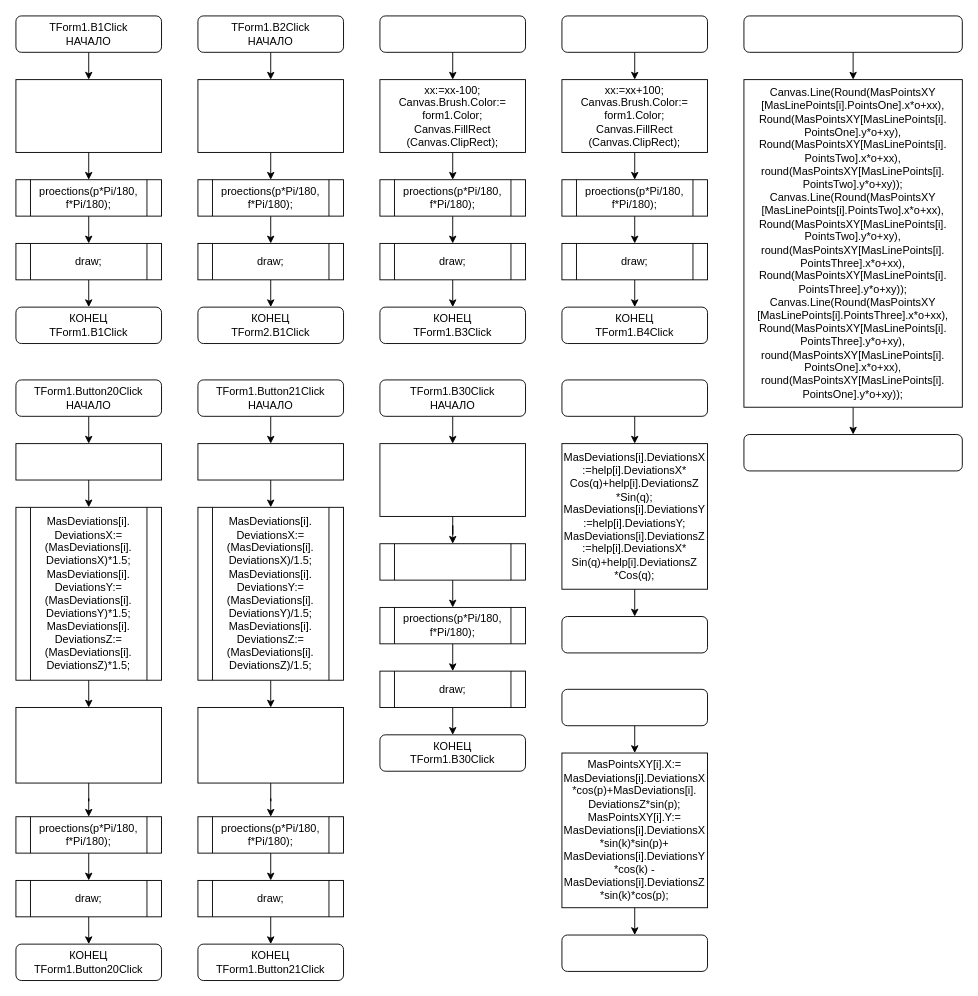
The diagram is 978 pixels wide and 996 high, and some of its shapes have lost their labels. The centre of each missing label's shape, as x and y in pixels:
o:=o+0.5; Canvas.Brush.Color:= form1.Color; Canvas.FillRect(Canvas. ClipRect);: point (88, 745)
o:=o-0.5; Canvas.Brush.Color:= form1.Color; Canvas.FillRect(Canvas. ClipRect);: point (270, 745)
povorot(q);: point (452, 561)
procedure TForm1.draw; НАЧАЛО: point (852, 33)
q:=0.1; Canvas.Brush.Color:= form1.Color; Canvas.FillRect (Canvas.ClipRect);: point (452, 479)
TForm1.B3Click НАЧАЛО: point (452, 33)
TForm1.B4Click НАЧАЛО: point (634, 33)
TForm1.povorot НАЧАЛО: point (634, 397)
TForm1.proections НАЧАЛО: point (634, 707)
xx:=xx*1.1; xy:=xy*1.1;: point (88, 461)
xx:=xx/1.1; xy:=xy/1.1;: point (270, 461)
xy:=xy+100; Canvas.Brush.Color:= form1.Color; Canvas.FillRect (Canvas.ClipRect);: point (270, 115)
xy:=xy-100; Canvas.Brush.Color:= form1.Color; Canvas.FillRect (Canvas.ClipRect);: point (88, 115)
КОНЕЦ procedure TForm1.draw;: point (852, 452)
КОНЕЦ TForm1.povorot: point (634, 634)
КОНЕЦ TForm1.proections: point (634, 952)
